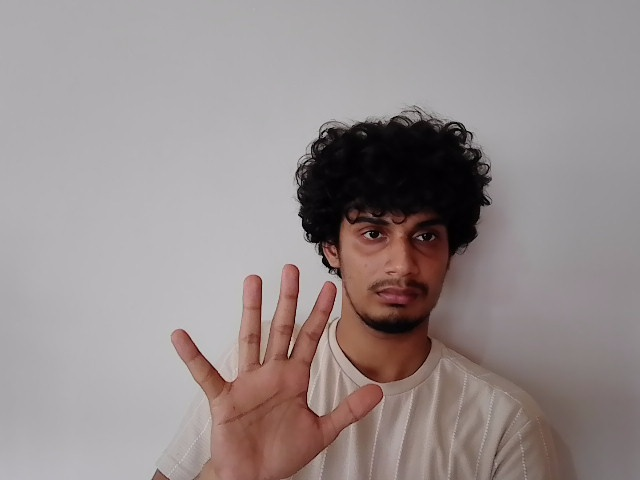goodbye: (170, 262, 389, 477)
